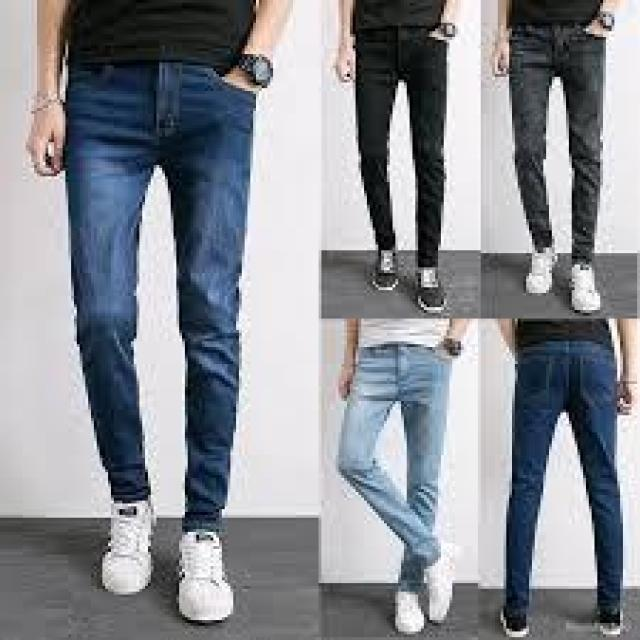pants: (46, 66, 270, 526), (502, 342, 633, 618), (334, 344, 457, 592), (498, 20, 614, 267), (349, 47, 465, 266)
